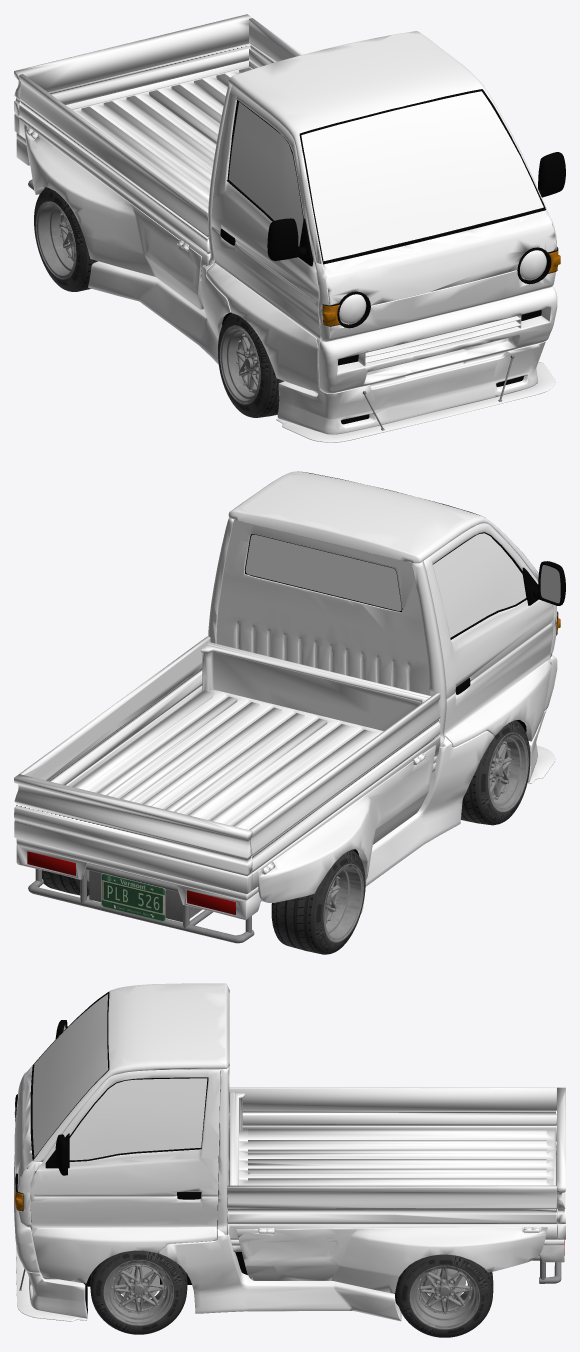
The model's file is carry.glb.
The picture shows the model from 3 angles, top to bottom: view 1: azimuth 30°, elevation 25°; view 2: azimuth 150°, elevation 25°; view 3: azimuth 270°, elevation 25°; orthographic projection. The views are drawn at different scales.
Parts seen in each view (by area): view 1: Object_11, Object_30, Object_28, wheel_fr, wheel_rr, Object_17, Object_13; view 2: Object_11, Object_30, wheel_rr, wheel_fr, Object_6, Object_33, Object_28, Object_16, Object_7, wheel_rl, Object_20; view 3: Object_11, Object_30, wheel_fl, wheel_rl, Object_28, Object_17.
Boxes of the visible parts, <box> form: Object_11: <box>14,14,557,434</box>; Object_30: <box>228,91,546,324</box>; Object_28: <box>220,89,565,328</box>; wheel_fr: <box>218,313,284,417</box>; wheel_rr: <box>34,187,97,291</box>; Object_17: <box>276,362,555,442</box>; Object_13: <box>44,187,541,424</box>; Object_11: <box>14,471,557,919</box>; Object_30: <box>245,533,529,637</box>; wheel_rr: <box>271,849,365,954</box>; wheel_fr: <box>461,720,530,825</box>; Object_6: <box>28,863,254,943</box>; Object_33: <box>101,873,165,921</box>; Object_28: <box>245,472,565,694</box>; Object_16: <box>27,851,235,914</box>; Object_7: <box>89,870,202,922</box>; wheel_rl: <box>42,870,89,895</box>; Object_20: <box>540,565,560,603</box>; Object_11: <box>14,983,565,1321</box>; Object_30: <box>14,994,207,1194</box>; wheel_fl: <box>90,1250,187,1334</box>; wheel_rl: <box>396,1254,493,1337</box>; Object_28: <box>15,992,208,1211</box>; Object_17: <box>16,1248,86,1321</box>.
Size of the model in its own units: 1.79 by 1.73 by 3.3.
Materials: 17 (4 with a texture image).
